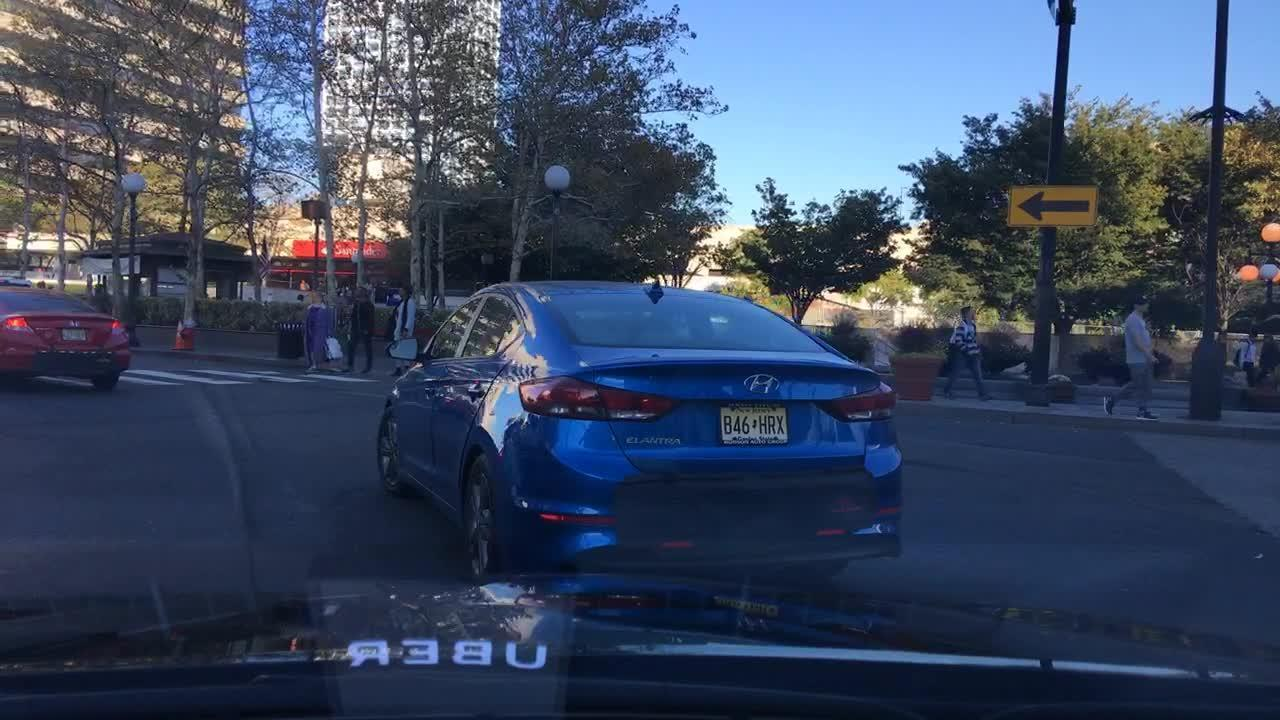Hyundai: (731, 359, 798, 403)
